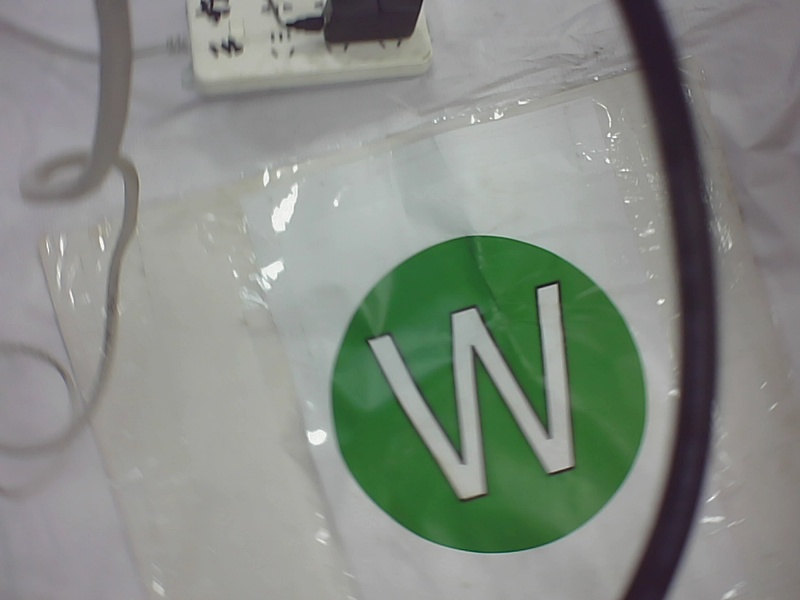areaB: (318, 229, 653, 558)
